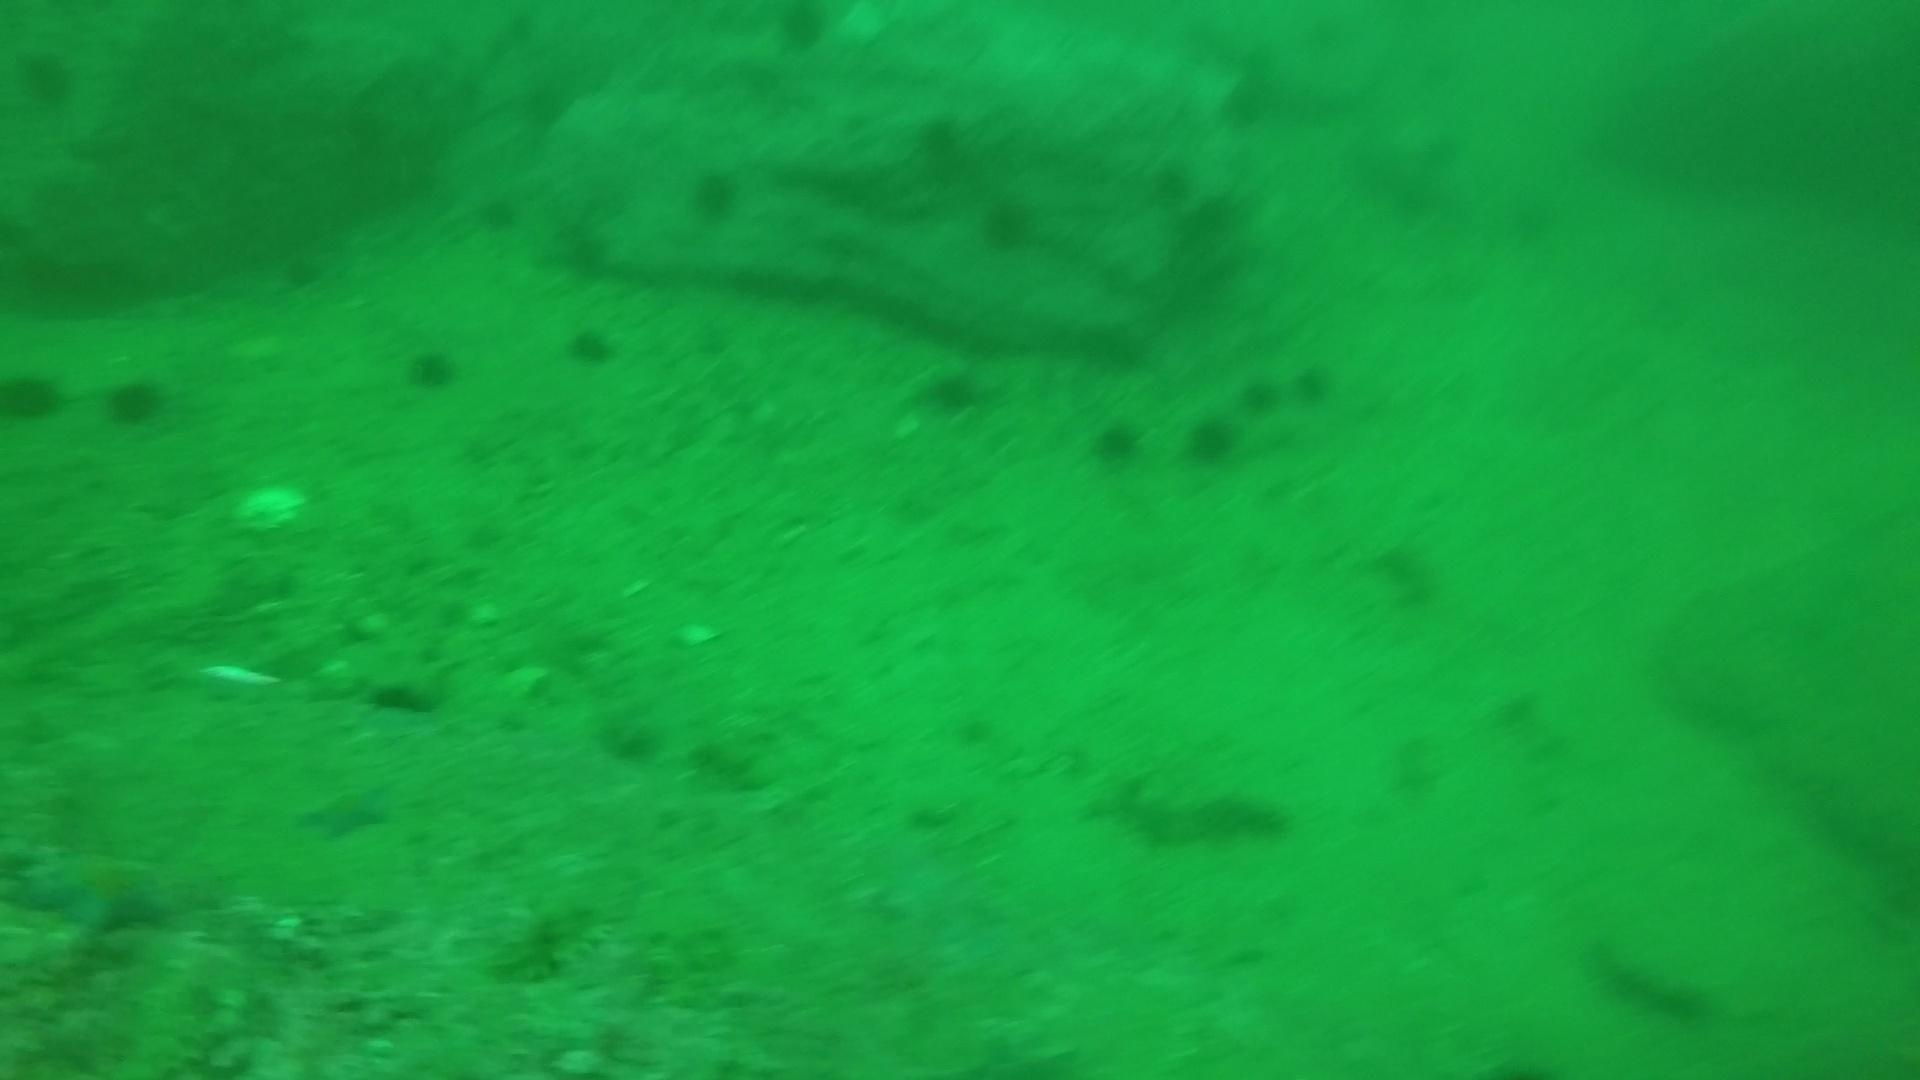echinus: (1365, 533, 1447, 613), (11, 42, 82, 113), (545, 212, 617, 282), (911, 361, 992, 423), (972, 190, 1042, 256), (0, 363, 67, 429), (100, 371, 171, 431), (682, 162, 746, 227), (909, 109, 972, 173), (1180, 409, 1245, 469), (767, 1, 837, 57), (1085, 413, 1147, 471), (400, 340, 464, 396), (560, 320, 622, 373), (1288, 357, 1338, 411), (1236, 369, 1284, 419)
starfish: (12, 843, 175, 940), (294, 775, 398, 843)
